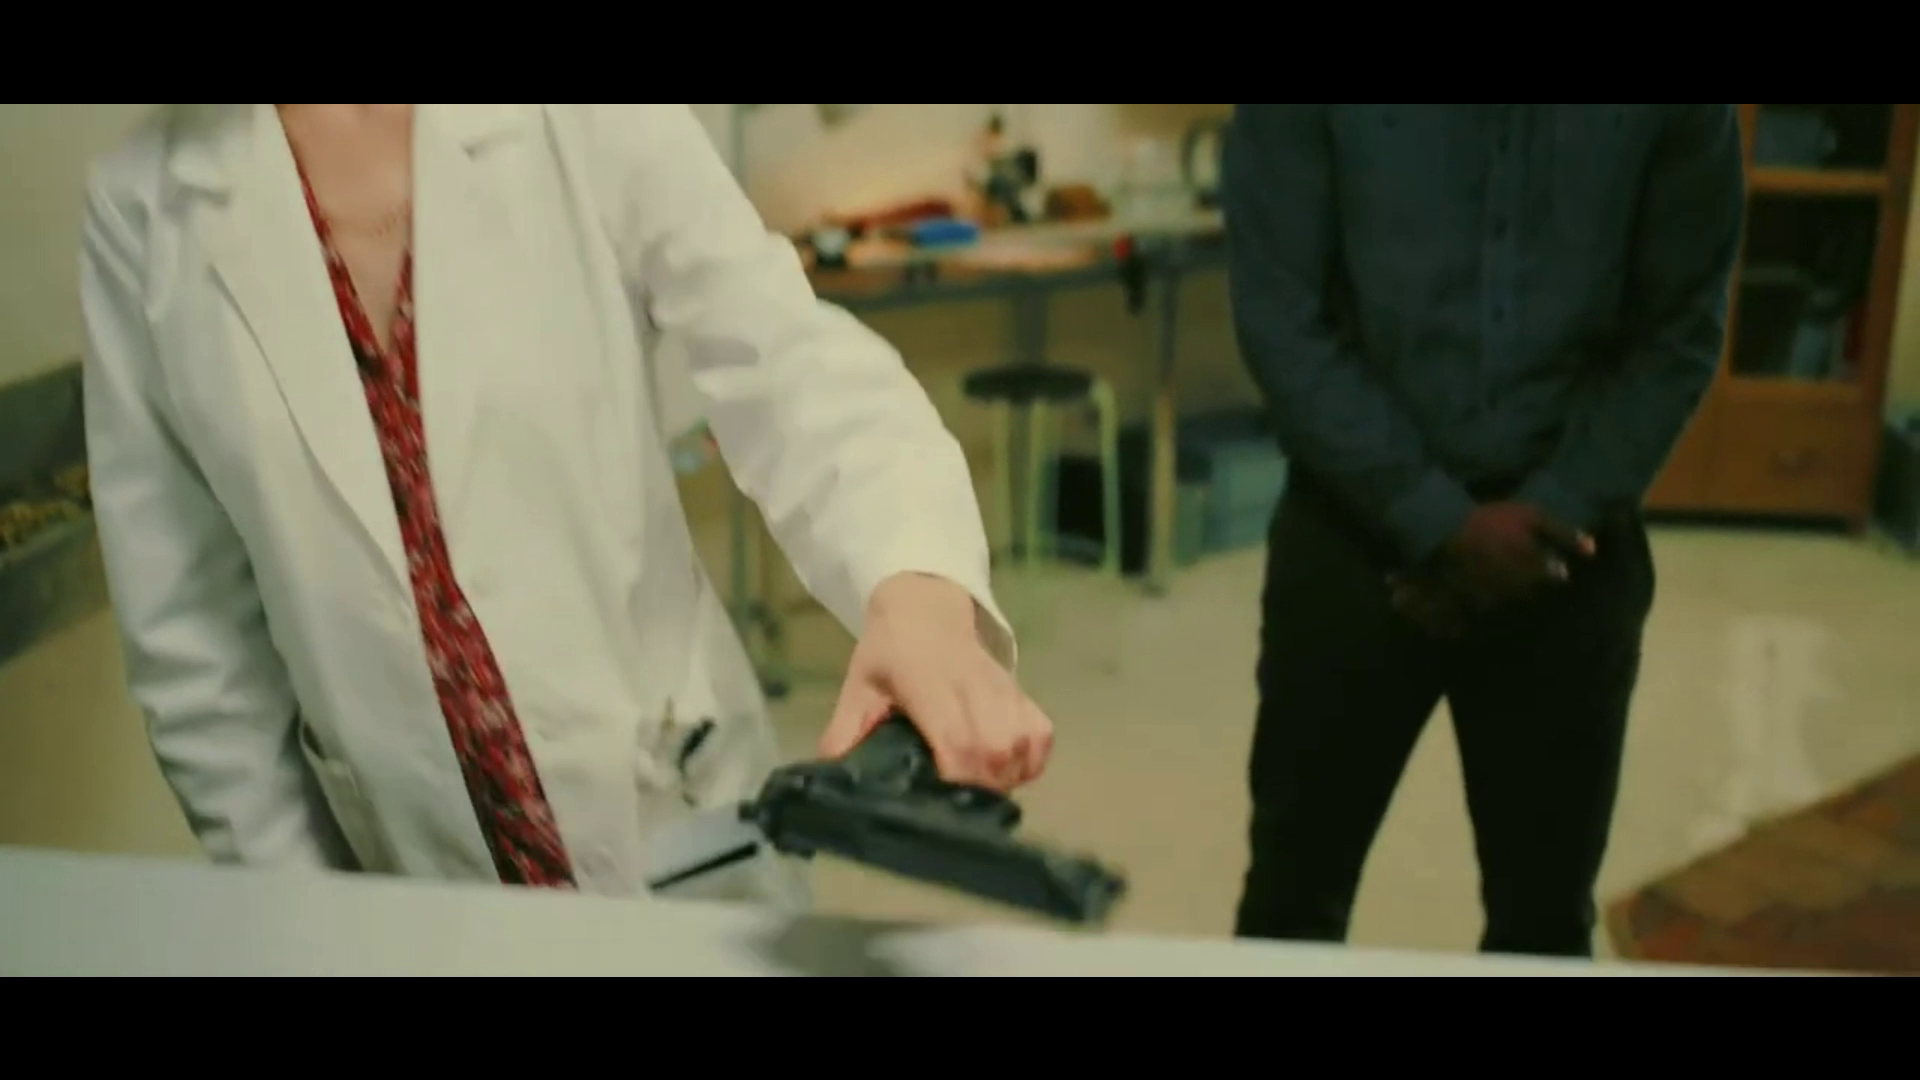SIG P226: (736, 707, 1127, 926)
